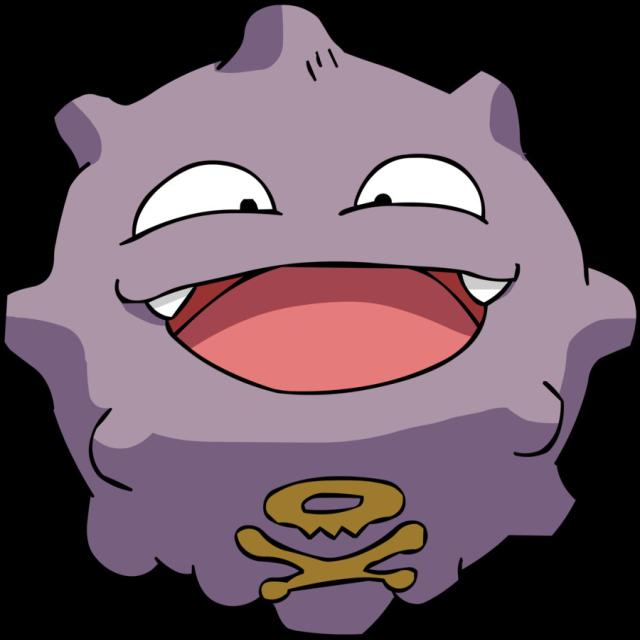Koffing: (8, 3, 631, 640)
